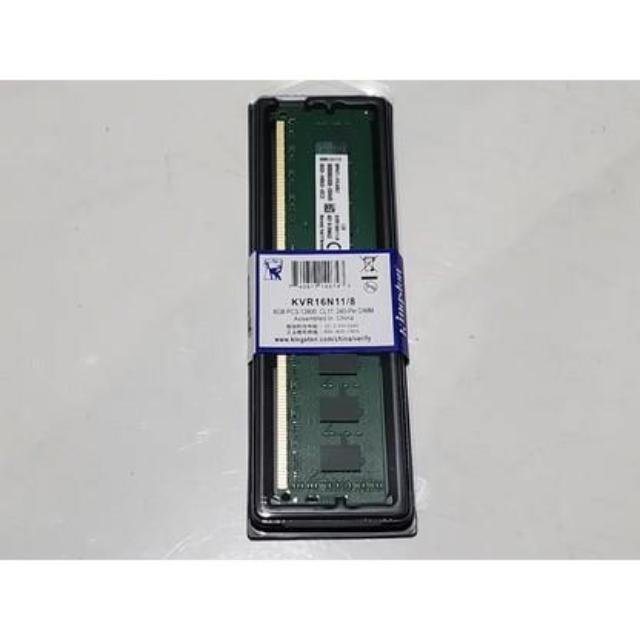RAM: (264, 111, 402, 514)
